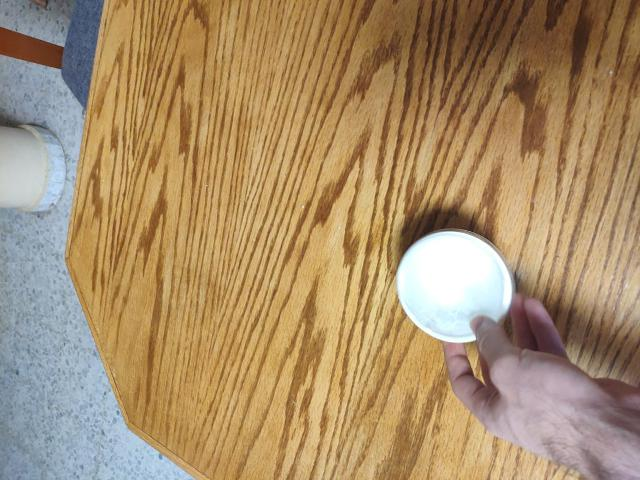cotage: (397, 229, 518, 346)
